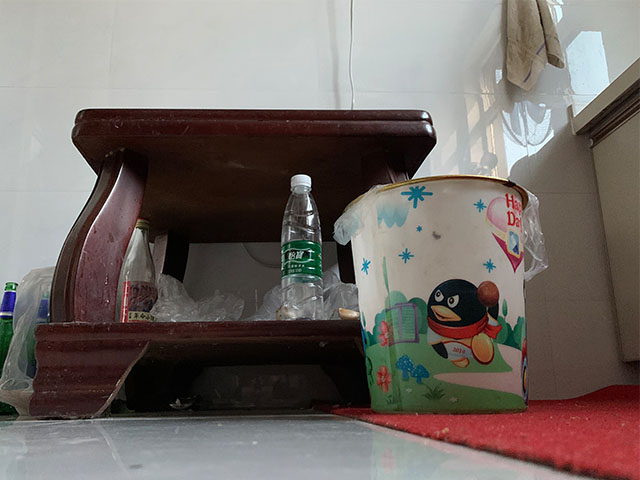carpet: (315, 383, 639, 480)
table: (30, 108, 437, 420)
trashcan: (342, 173, 531, 415)
